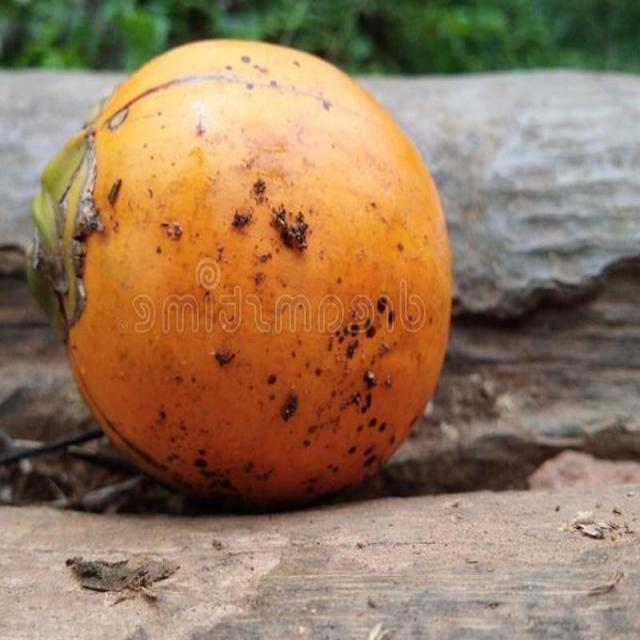good: (25, 38, 454, 514)
